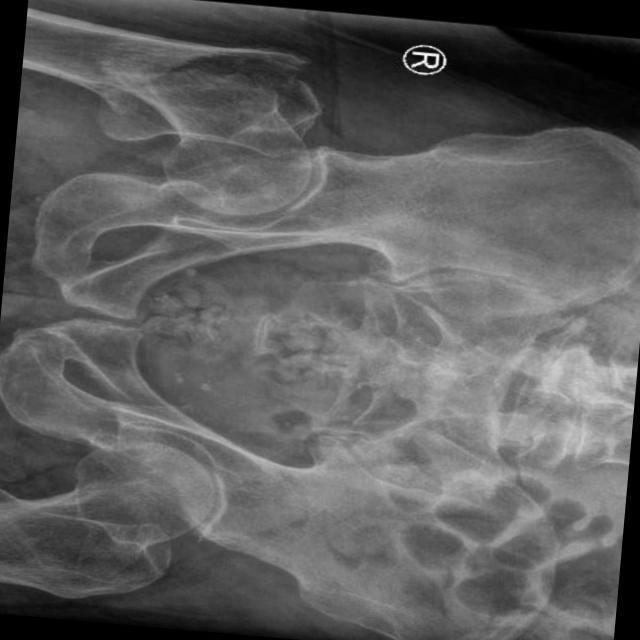normal-left: (0, 440, 215, 600)
right-intertrochanteric: (99, 65, 311, 216), (21, 7, 309, 116)
